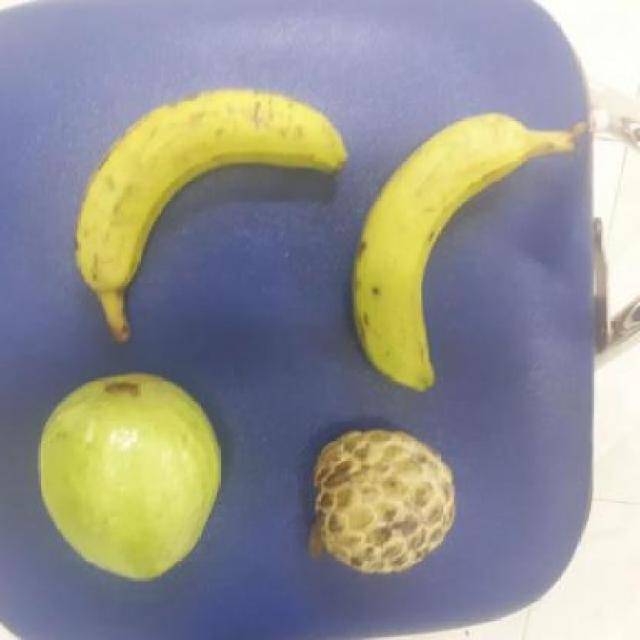banana: (73, 83, 347, 286), (352, 106, 543, 389)
guava: (32, 369, 226, 583)
sugar apple: (305, 428, 457, 575)
